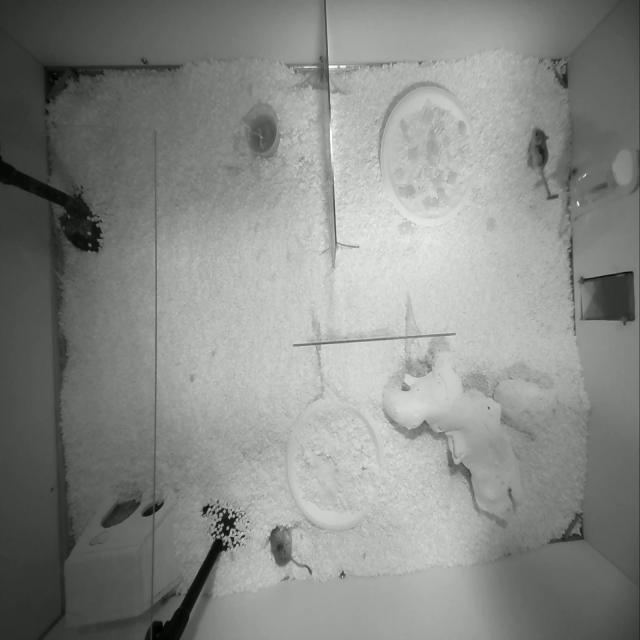pup_fluffy: (270, 526, 312, 574)
pup_v_stripe: (528, 129, 557, 199)
